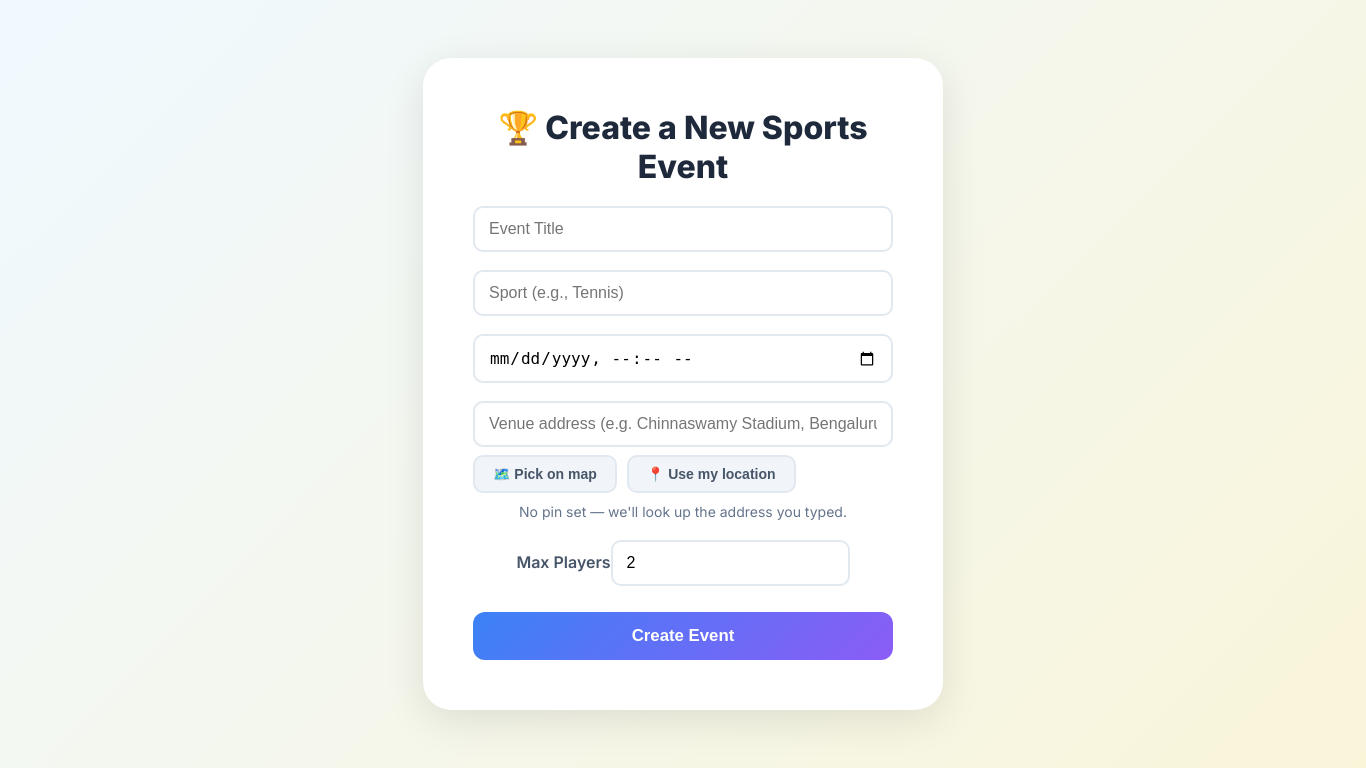
Test: CreateEvent › failures › explains an unreachable geocoder
Type "Sunday Football" into the field with placeholder "Event Title" at (683, 229), box top-left (473, 206), bottom-right (893, 252)
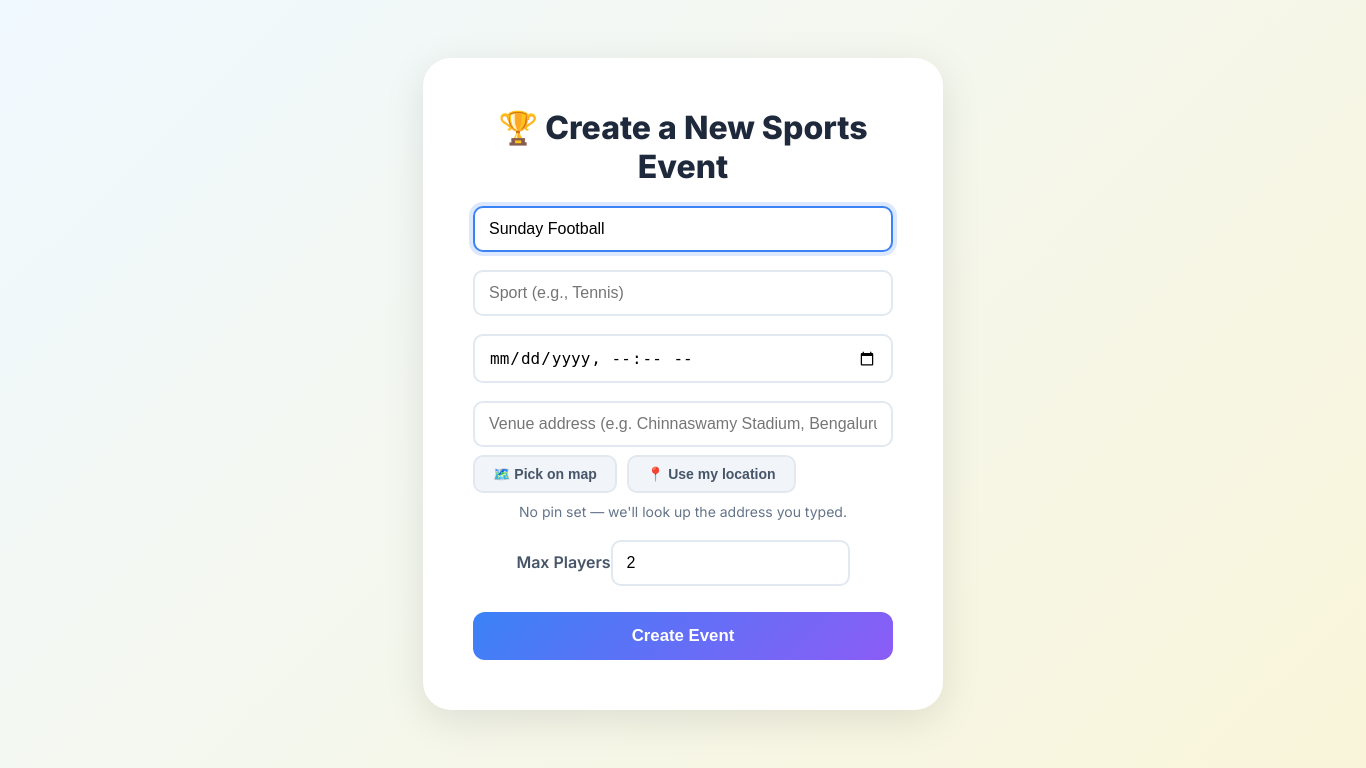
Type "Football" into the field with placeholder "Sport (e.g., Tennis)" at (683, 293), box top-left (473, 270), bottom-right (893, 316)
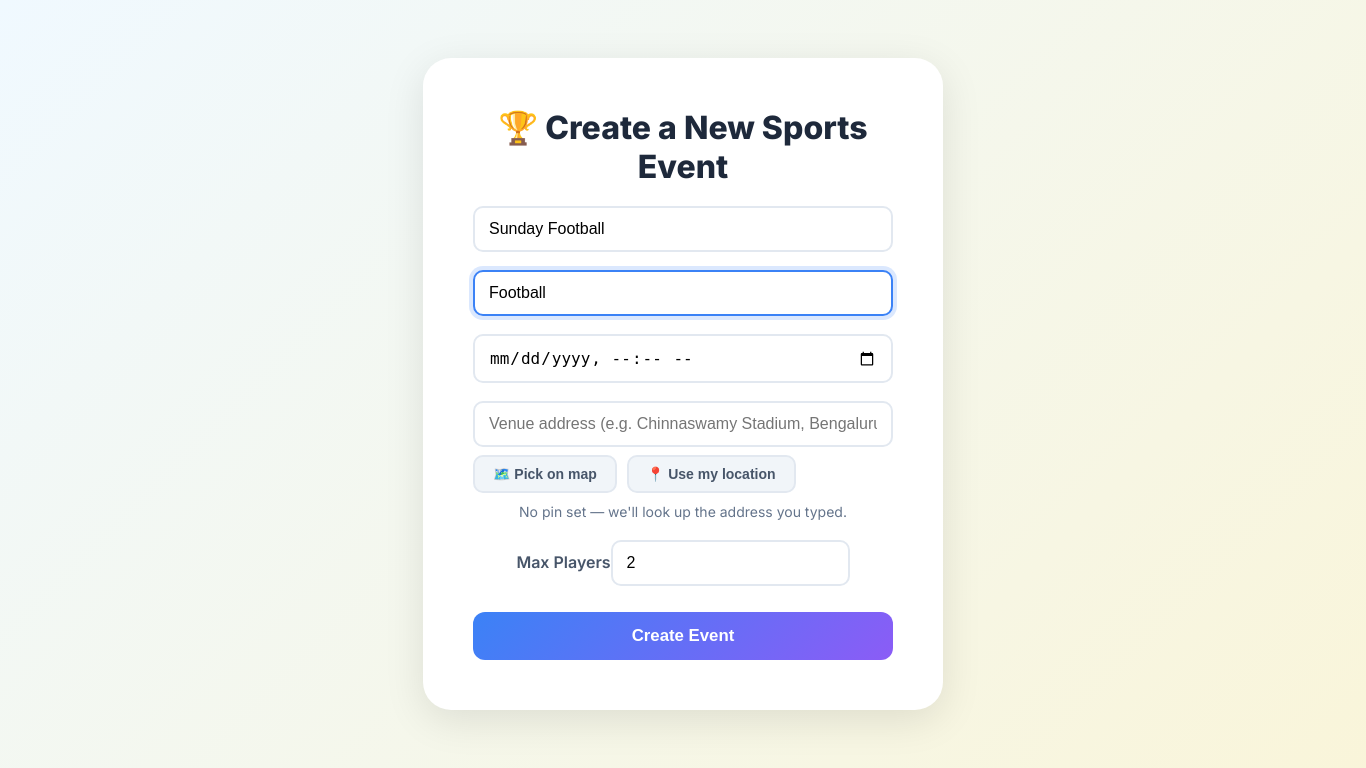
Type "2027-09-15T18:30" into the 3rd field named "date" at (683, 358), box top-left (473, 334), bottom-right (893, 383)
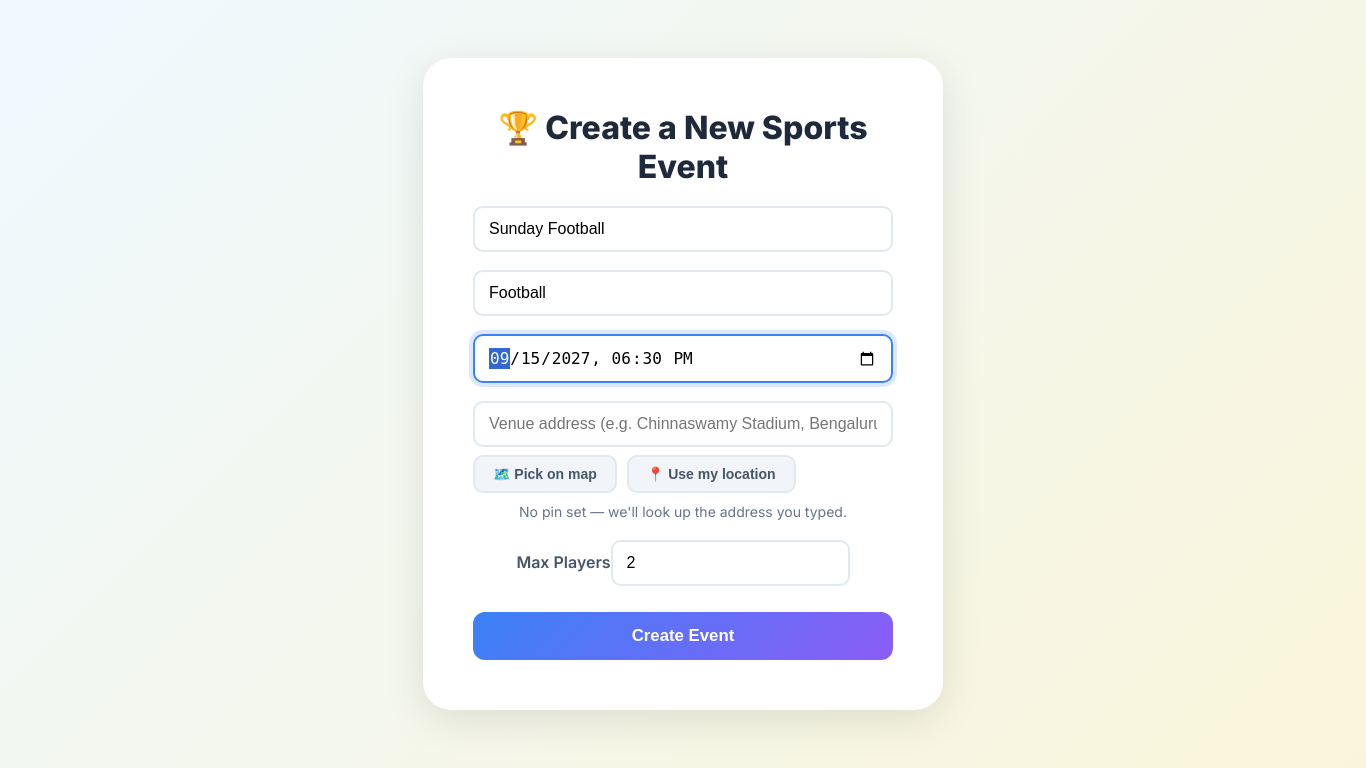
Type "Koramangala Turf, Bengaluru" into the field with placeholder "Venue address (e.g. Chinnaswamy Stadium, Bengaluru)" at (683, 424), box top-left (473, 401), bottom-right (893, 447)
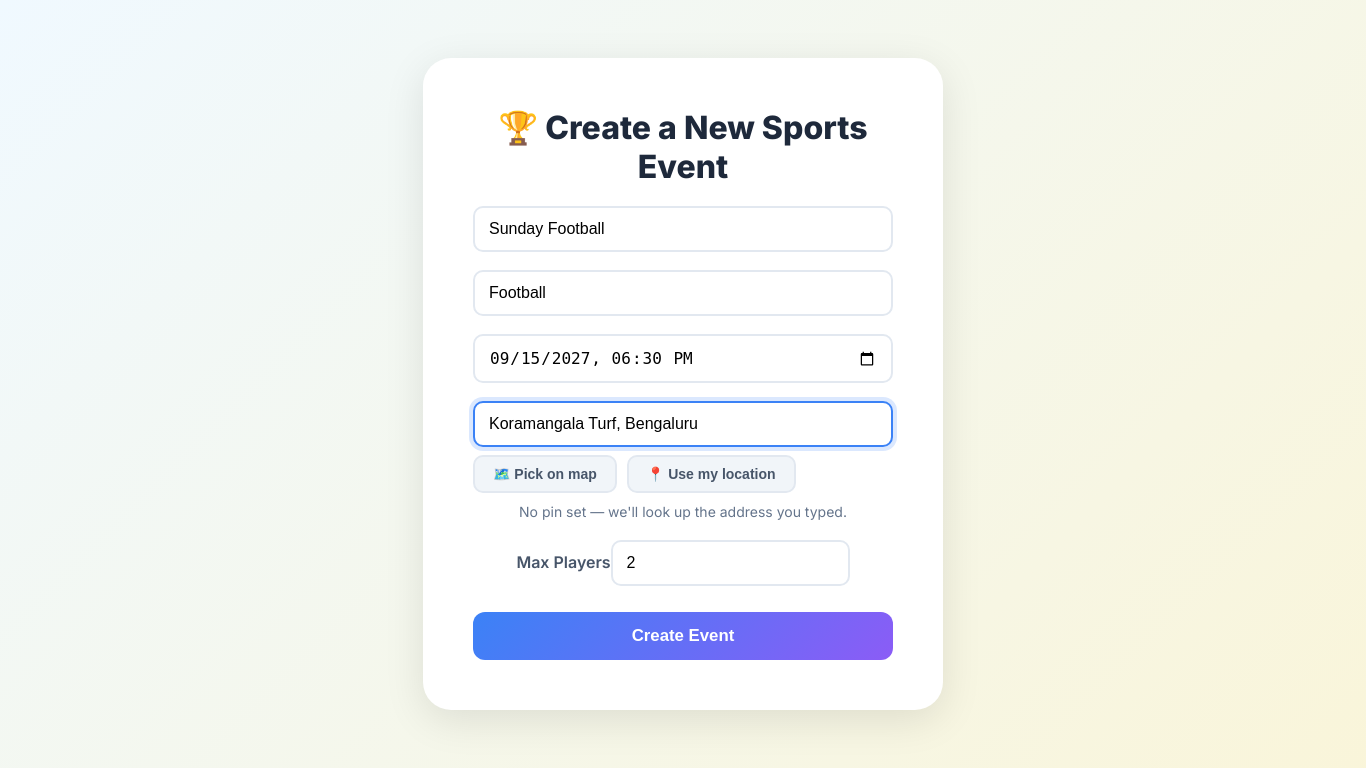
Click the button "Create Event" at (683, 636), box top-left (473, 612), bottom-right (893, 660)
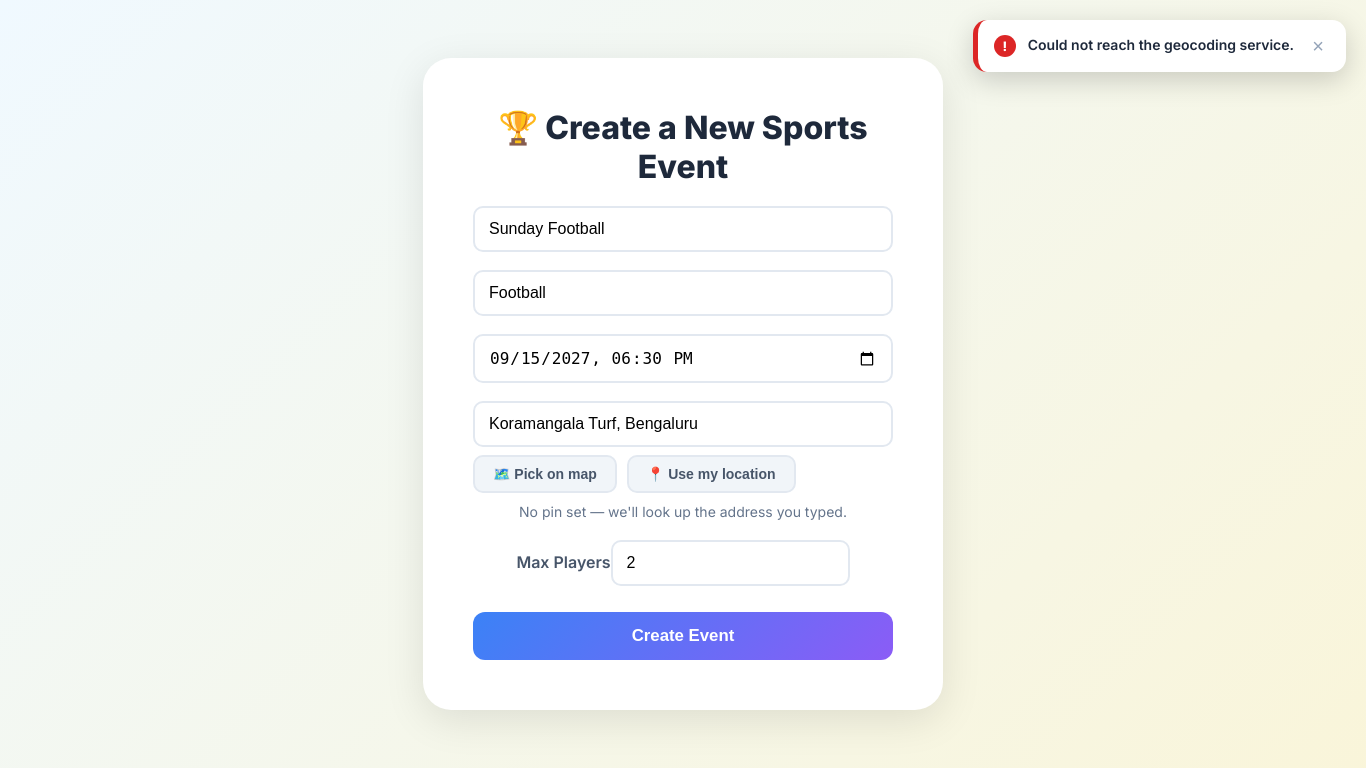
Now the text "Could not reach the geocoding service." is shown, box top-left (1028, 34), bottom-right (1294, 55)
